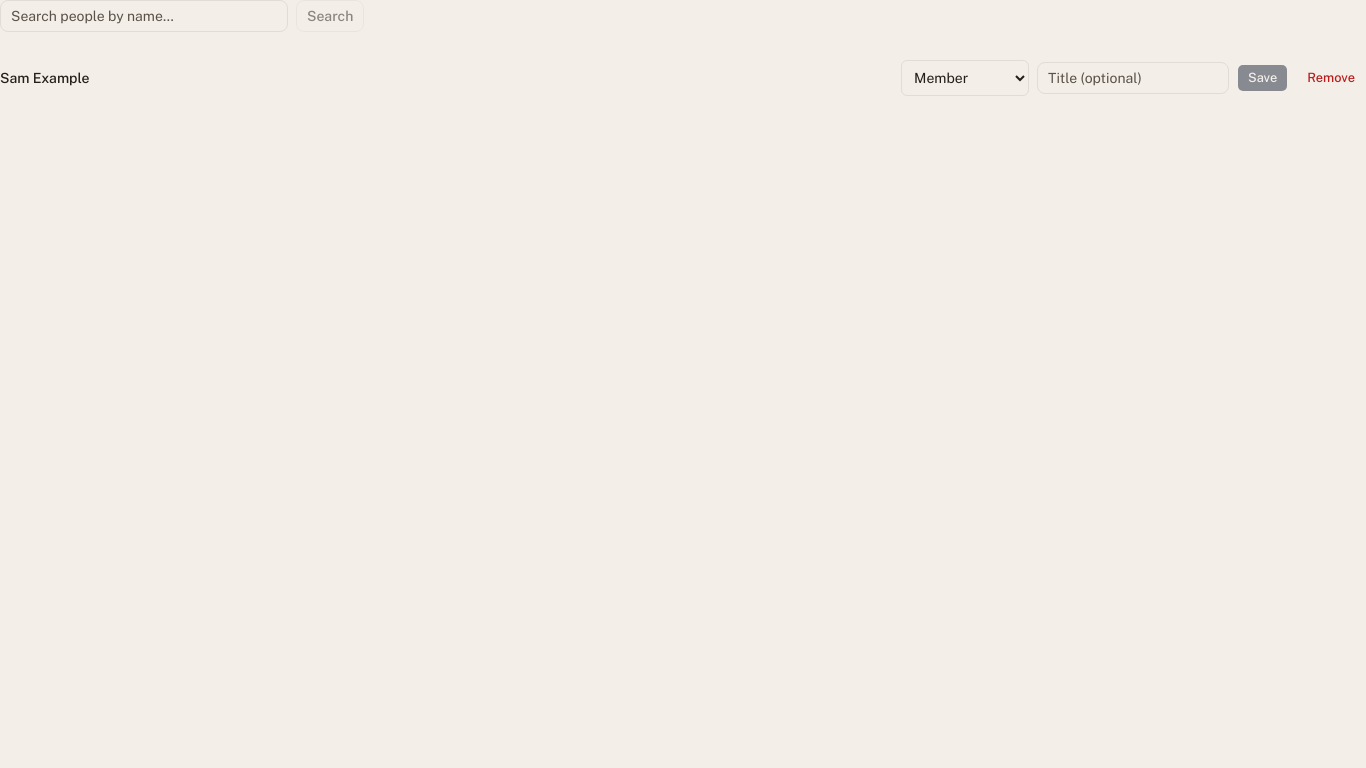
Test: MembersPanel remove › asks for confirmation before removing a member
Later steps or results of the test are not shown.
What coordinates should you click on to do the following:
click the button "Remove"
I would click on:
 (1331, 78)
Its box is top-left (1296, 64), bottom-right (1365, 92).
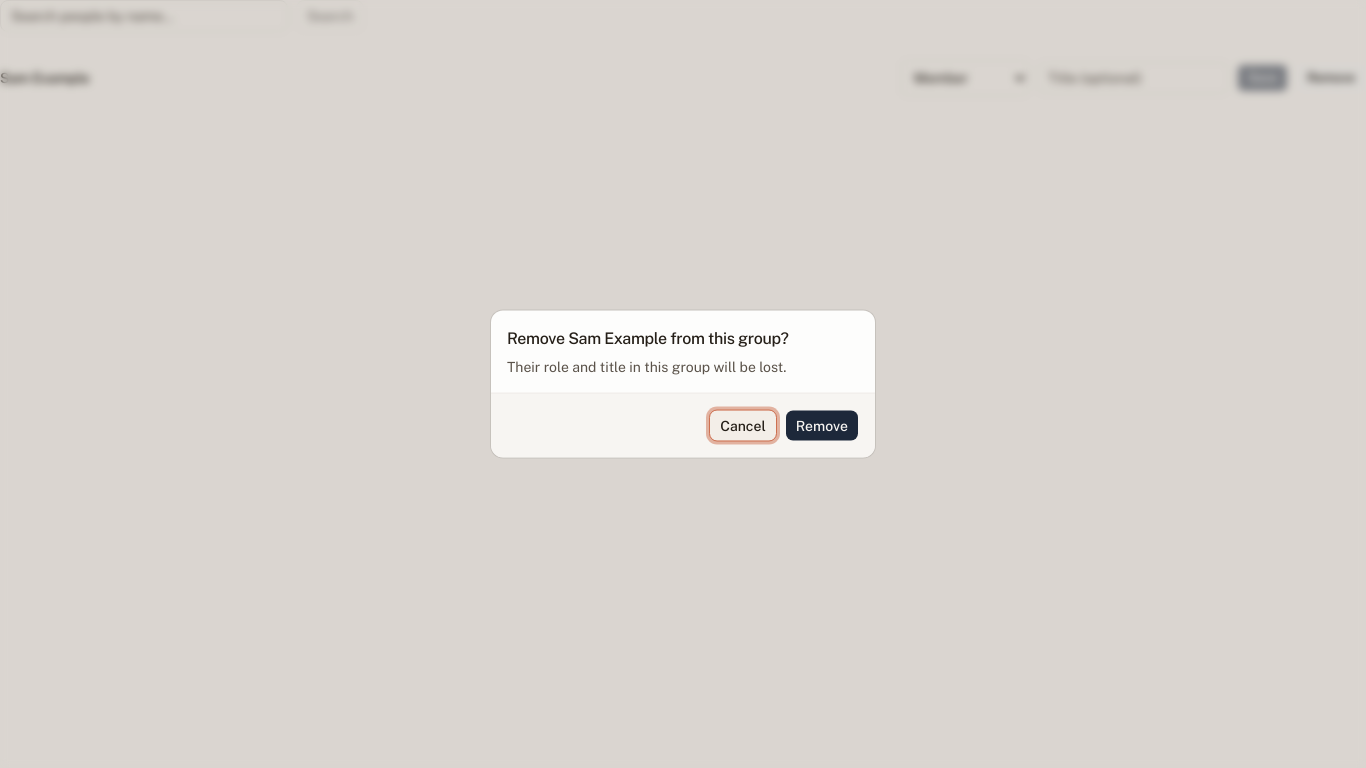
Now the heading "Remove Sam Example from this group?" is shown, box top-left (507, 326), bottom-right (789, 350)
